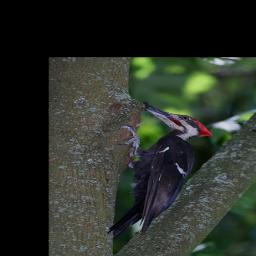Woodpecker: (107, 103, 214, 240)
